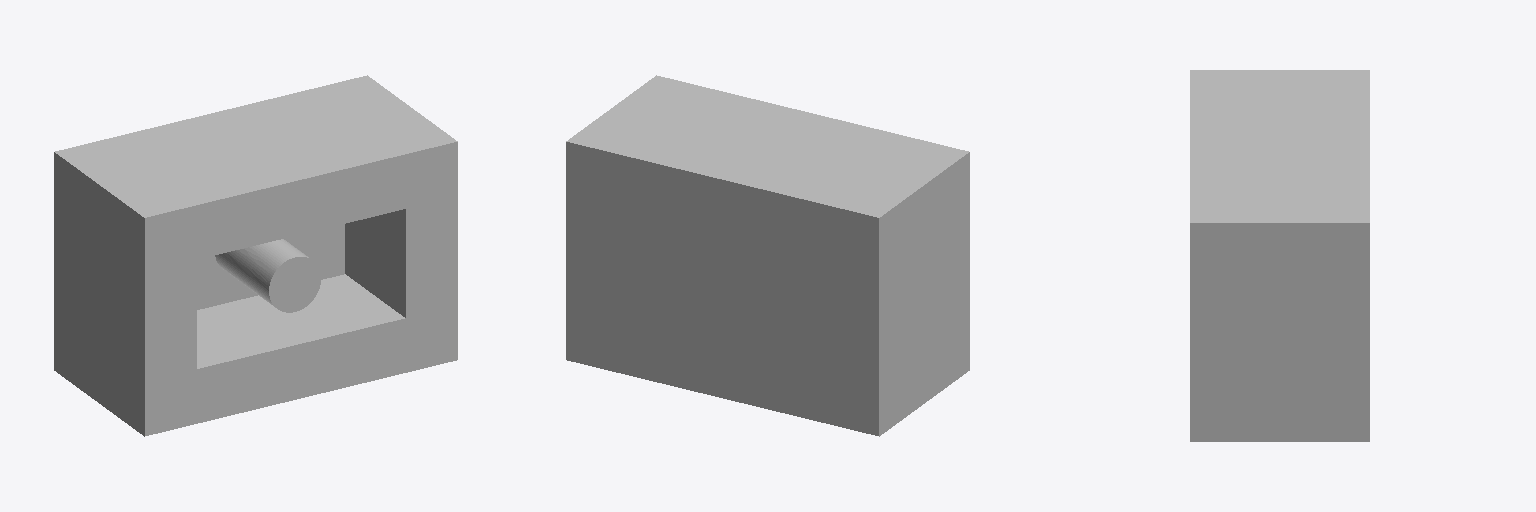
Rendered from tank14.obj.
3 renders of one model, left to right at view 1: azimuth 30°, elevation 25°; view 2: azimuth 150°, elevation 25°; view 3: azimuth 270°, elevation 25°, orthographic.
Bounding box in the file's own units: 3 × 2 × 1.5.